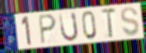0: (82, 10, 98, 41)
1: (21, 16, 34, 47)
P: (38, 14, 58, 46)
S: (120, 6, 141, 37)
T: (100, 8, 118, 40)
U: (58, 11, 80, 43)
